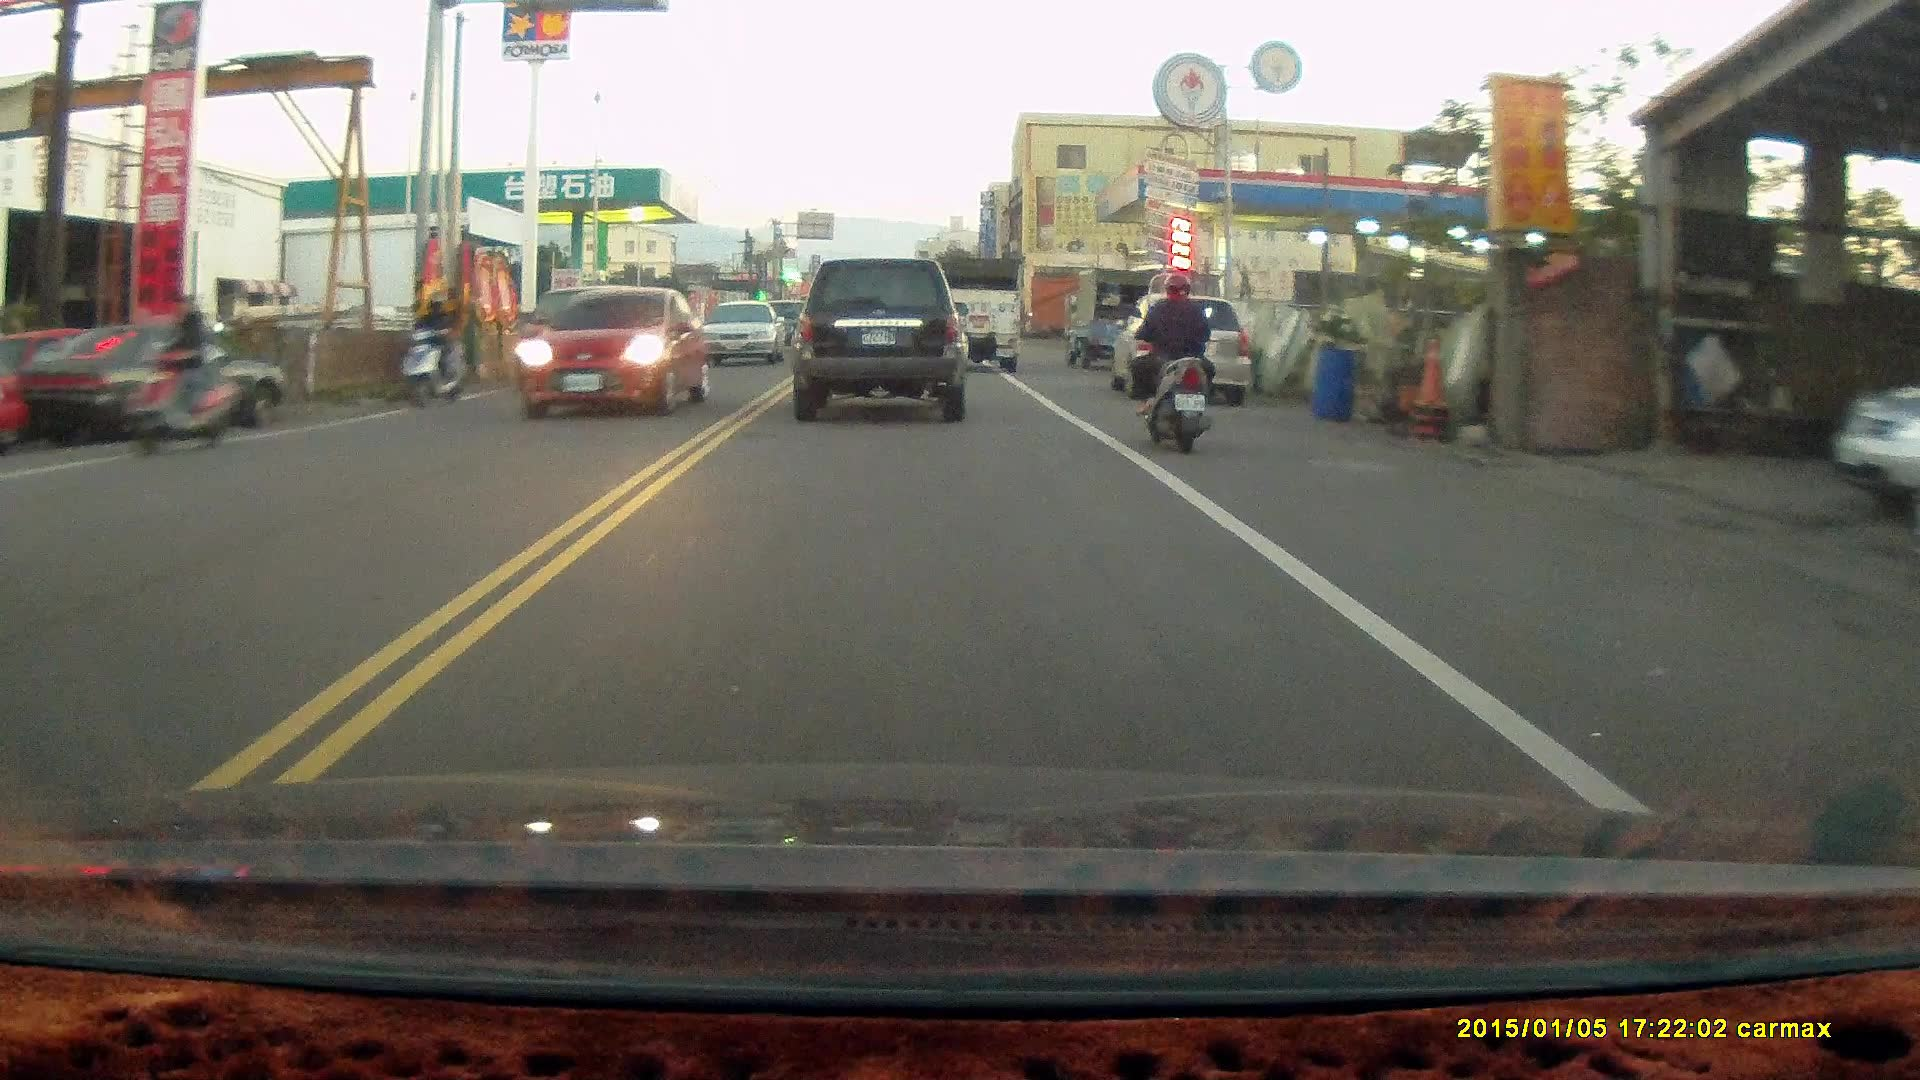rider: (121, 290, 239, 456), (1125, 267, 1221, 450), (387, 291, 462, 410)
vehicle: (8, 324, 281, 447), (790, 256, 969, 422), (519, 287, 709, 419), (1109, 293, 1258, 406), (512, 284, 652, 392), (930, 252, 1021, 372), (698, 301, 788, 366)
